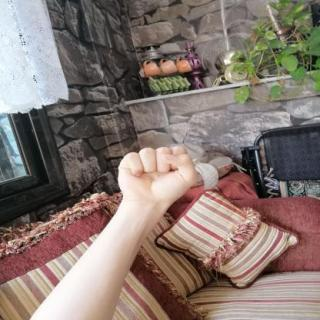SAD: (103, 139, 205, 210)
